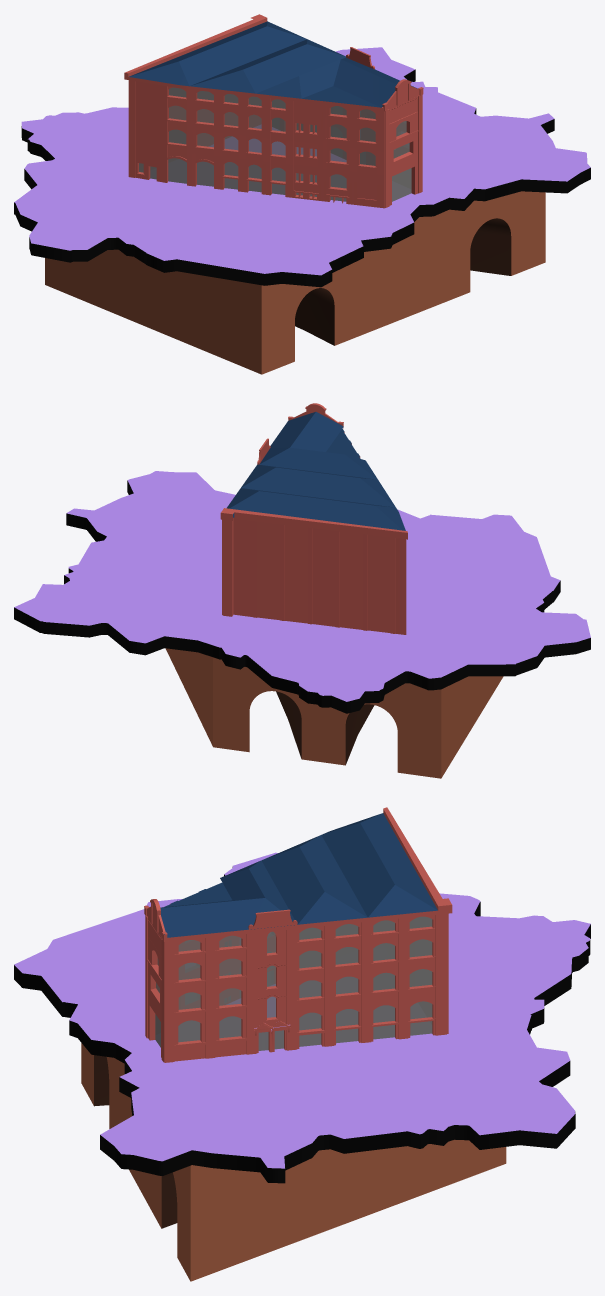
File: leeds-office-v7.gltf
3 renders of one model, top to bottom at view 1: azimuth 30°, elevation 25°; view 2: azimuth 150°, elevation 25°; view 3: azimuth 270°, elevation 25°, orthographic. The views are drawn at different scales.
Visible parts, largest first — view 1: yorkshire-map, leeds-building, tunnel, root, led-5, led-2; view 2: yorkshire-map, leeds-building, tunnel; view 3: yorkshire-map, leeds-building, tunnel, root, led-13, led-37, led-25, led-12.
Part boxes in pixels (x1,y1,x2,y2): yorkshire-map: (14, 47, 590, 287); leeds-building: (124, 14, 423, 208); tunnel: (45, 191, 545, 374); root: (197, 127, 411, 201); led-5: (248, 164, 285, 194); led-2: (139, 158, 186, 183); yorkshire-map: (14, 471, 590, 713); leeds-building: (220, 403, 407, 634); tunnel: (165, 648, 503, 778); yorkshire-map: (14, 852, 590, 1183); leeds-building: (144, 807, 452, 1062); tunnel: (81, 1043, 506, 1281); root: (155, 996, 321, 1050); led-13: (373, 1001, 432, 1039); led-37: (373, 939, 432, 960); led-25: (373, 969, 432, 990); led-12: (336, 1009, 358, 1043).
Size of the model in its own units: 0.5495 by 0.2324 by 0.4241.
